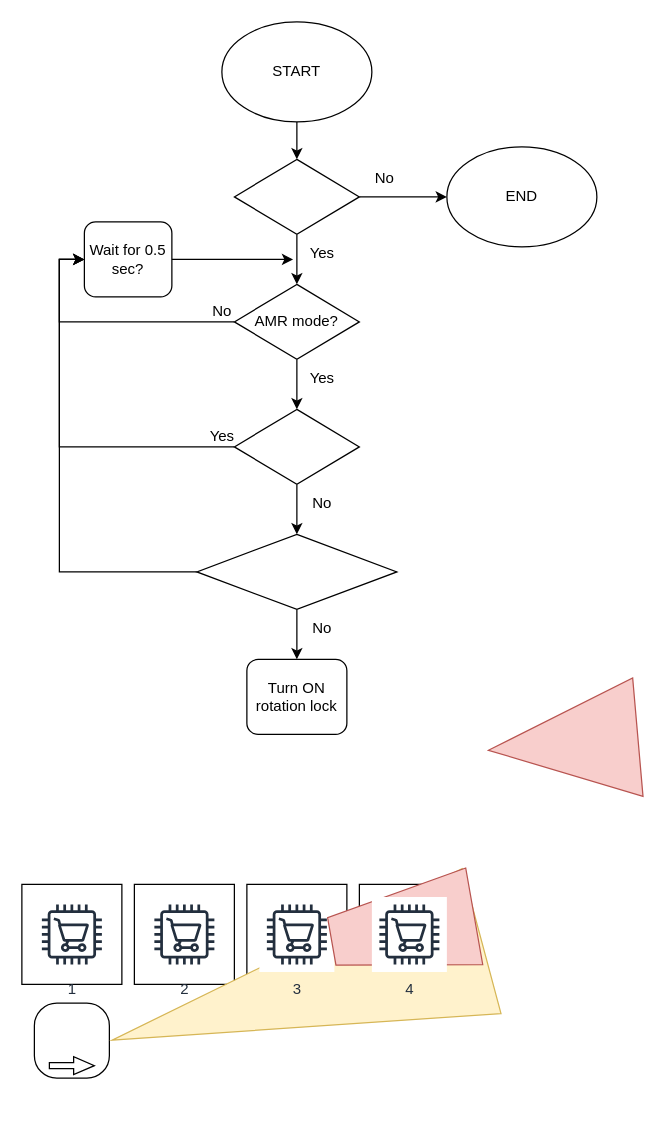
Some shapes in this 665 by 1135 pixel diagram are drawn without their labels. Each missing label, with the centre of its shape:
"AMR" belongs at point 71,1040.
"is LexxTug?" belongs at point 296,196.
"is rotation_lock ON?" belongs at point 296,571.
"with cargo?" belongs at point 296,446.
